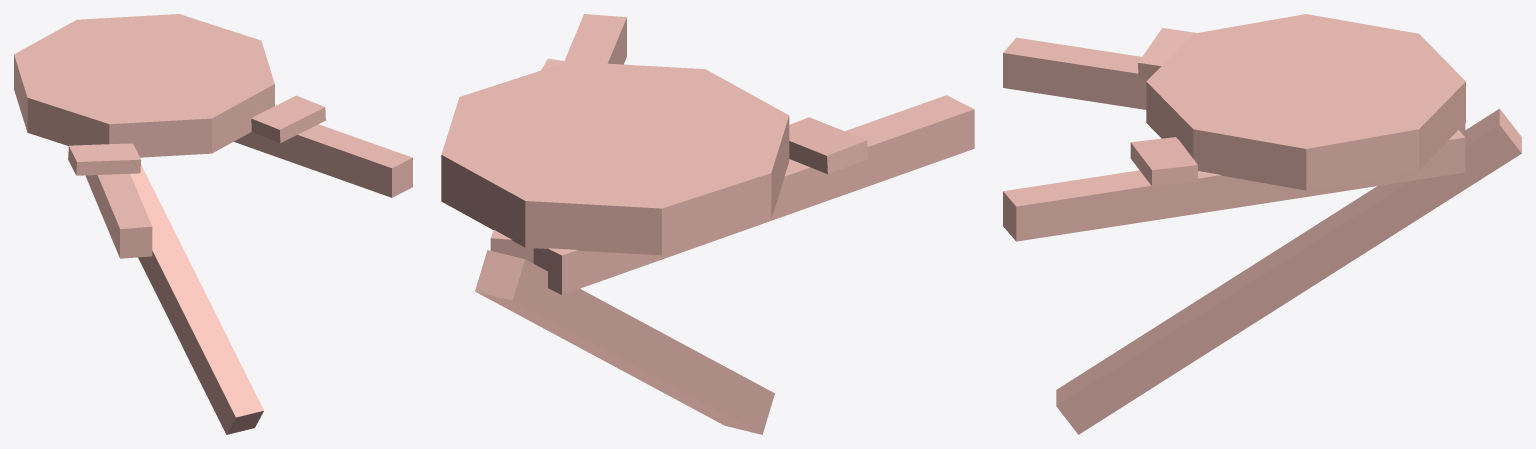
The model's file is Mega_Asset_s_Pack_Cylinder_049.FBX.
The picture shows the model from 3 angles, left to right: view 1: azimuth 30°, elevation 25°; view 2: azimuth 150°, elevation 25°; view 3: azimuth 270°, elevation 25°; orthographic projection. The views are drawn at different scales.
Parts seen in each view (by area): view 1: Mega_Asset_s_Pack_Cylinder_049; view 2: Mega_Asset_s_Pack_Cylinder_049; view 3: Mega_Asset_s_Pack_Cylinder_049.
Boxes of the visible parts, <box> form: Mega_Asset_s_Pack_Cylinder_049: <box>14,14,412,434</box>; Mega_Asset_s_Pack_Cylinder_049: <box>441,14,974,434</box>; Mega_Asset_s_Pack_Cylinder_049: <box>1003,14,1521,434</box>.
Size of what is drawn, in the model's own units: 206 by 267 by 196.
